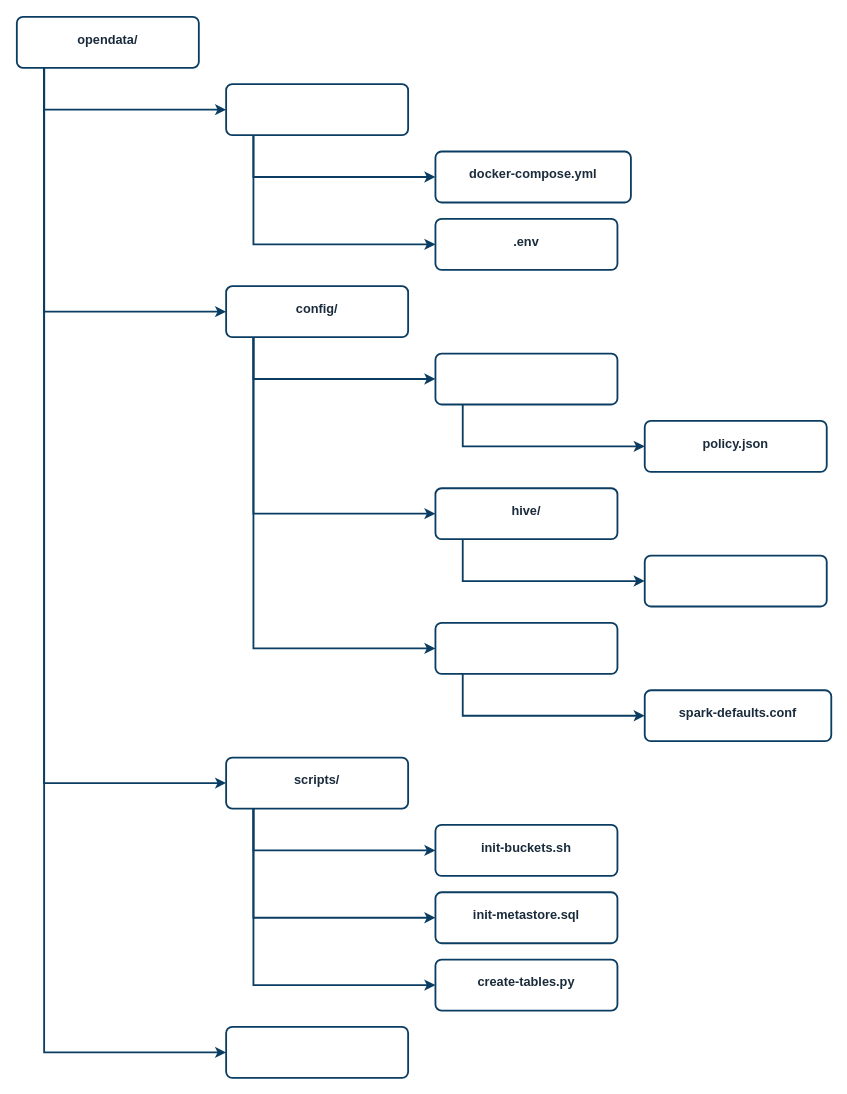
The diagram is 847 pixels wide and 1094 high, and some of its shapes have lost their labels. Each missing label, with the centre of its shape:
doc/: the point at 317,1052
docker/: the point at 317,109
hive-site.xml: the point at 735,580
iceberg/: the point at 526,648
minio/: the point at 526,378
